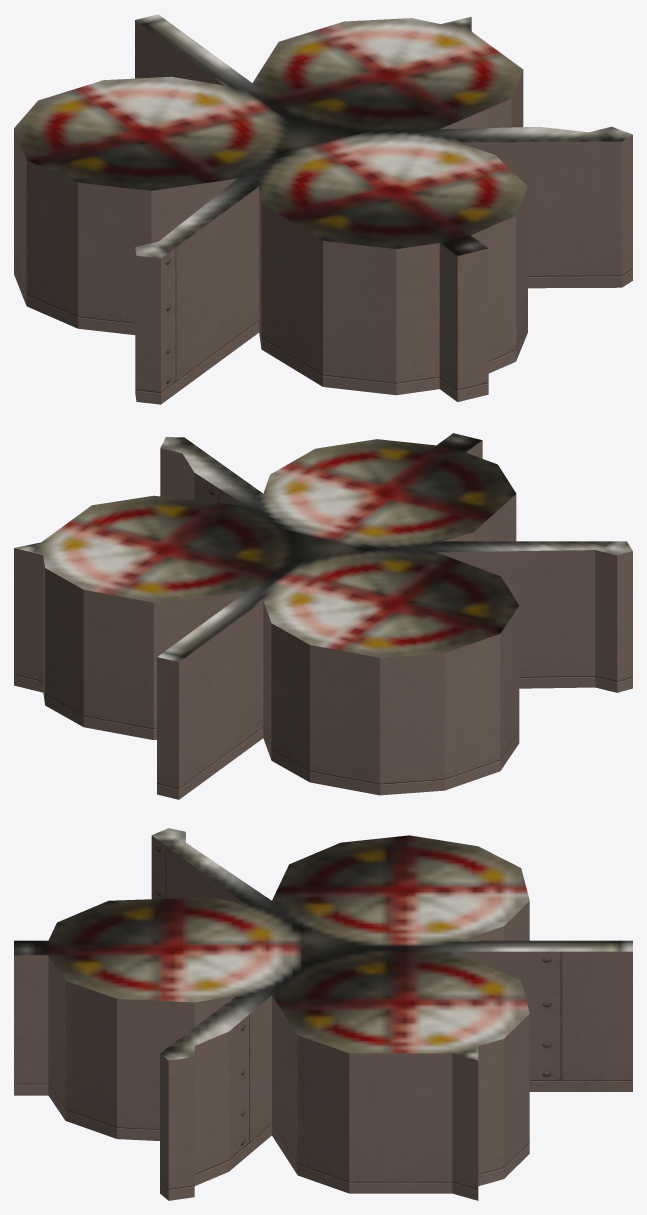
The model's file is fuel_tank_medium_31.glb.
3 views of the same model, one above another, from view 1: azimuth 30°, elevation 25°; view 2: azimuth 150°, elevation 25°; view 3: azimuth 270°, elevation 25° (orthographic). The views are drawn at different scales.
Parts seen in each view (by area): view 1: buildings/saxarba/fuel_tanks/fuel_tank_medium_31; view 2: buildings/saxarba/fuel_tanks/fuel_tank_medium_31; view 3: buildings/saxarba/fuel_tanks/fuel_tank_medium_31.
Boxes of the visible parts, x1,y1,x2,y2 form: buildings/saxarba/fuel_tanks/fuel_tank_medium_31: (14,14,632,404); buildings/saxarba/fuel_tanks/fuel_tank_medium_31: (14,433,632,799); buildings/saxarba/fuel_tanks/fuel_tank_medium_31: (14,828,632,1200).
Bounding box in the file's own units: 64 × 18 × 72.
